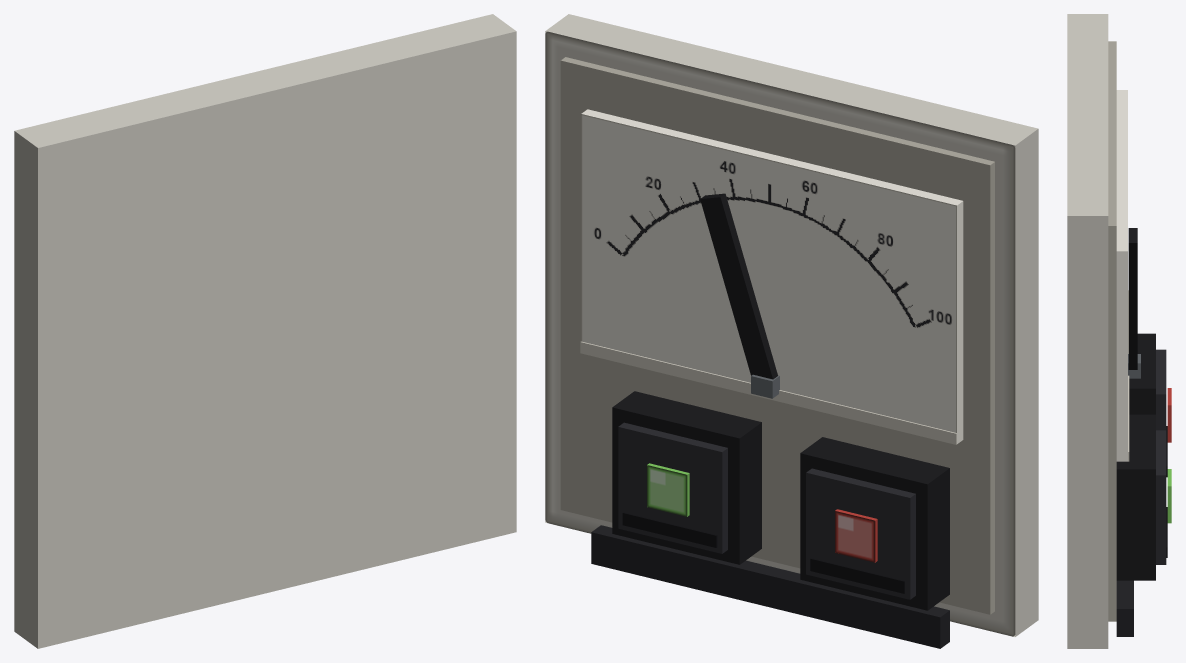
The model's file is gauge_buttons.obj.
3 renders of one model, left to right at view 1: azimuth 30°, elevation 25°; view 2: azimuth 150°, elevation 25°; view 3: azimuth 270°, elevation 25°, orthographic. The views are drawn at different scales.
Visible parts, largest first — view 1: Panel; view 2: Panel, Face, BtnOpen, BtnClose, Needle; view 3: Panel, BtnOpen, Face, BtnClose, Needle.
Part boxes in pixels (left/top/right/bottom): Panel: left=14, top=14, right=516, bottom=648; Panel: left=545, top=14, right=1038, bottom=648; Face: left=580, top=109, right=963, bottom=444; BtnOpen: left=612, top=391, right=761, bottom=564; BtnClose: left=800, top=437, right=949, bottom=610; Needle: left=700, top=193, right=779, bottom=398; Panel: left=1067, top=14, right=1133, bottom=648; BtnOpen: left=1116, top=414, right=1171, bottom=580; Face: left=1116, top=90, right=1129, bottom=461; BtnClose: left=1129, top=333, right=1171, bottom=477; Needle: left=1128, top=228, right=1140, bottom=378.
Size of the model in its own units: 0.875 by 0.9031 by 0.1912.
1 material, 1 textured.
